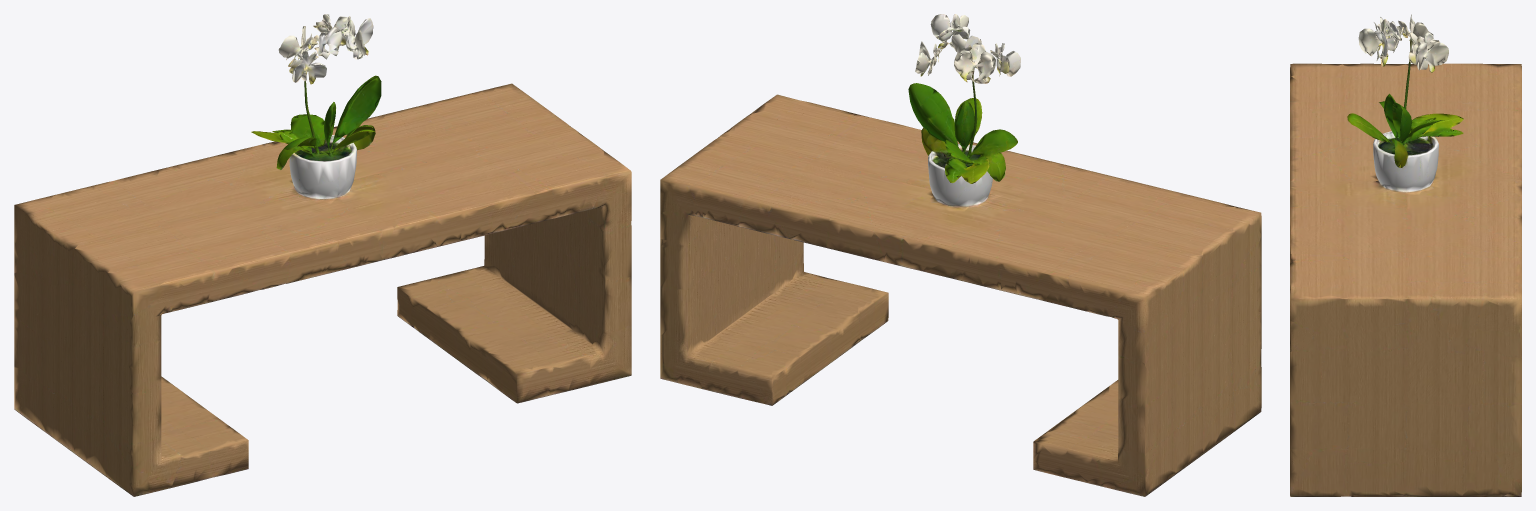
The model's file is Light Wood Coffee Table.glb.
3 renders of one model, left to right at view 1: azimuth 30°, elevation 25°; view 2: azimuth 150°, elevation 25°; view 3: azimuth 270°, elevation 25°, orthographic. The views are drawn at different scales.
Parts seen in each view (by area): view 1: Mesh_0.001; view 2: Mesh_0.001; view 3: Mesh_0.001.
Part boxes in pixels (x1=…): Mesh_0.001: x1=14, y1=14, x2=631, y2=496; Mesh_0.001: x1=660, y1=14, x2=1261, y2=496; Mesh_0.001: x1=1290, y1=14, x2=1521, y2=496.
Bounding box in the file's own units: 1.03 × 0.7497 × 0.4282.
Materials: 1 (1 with a texture image).
